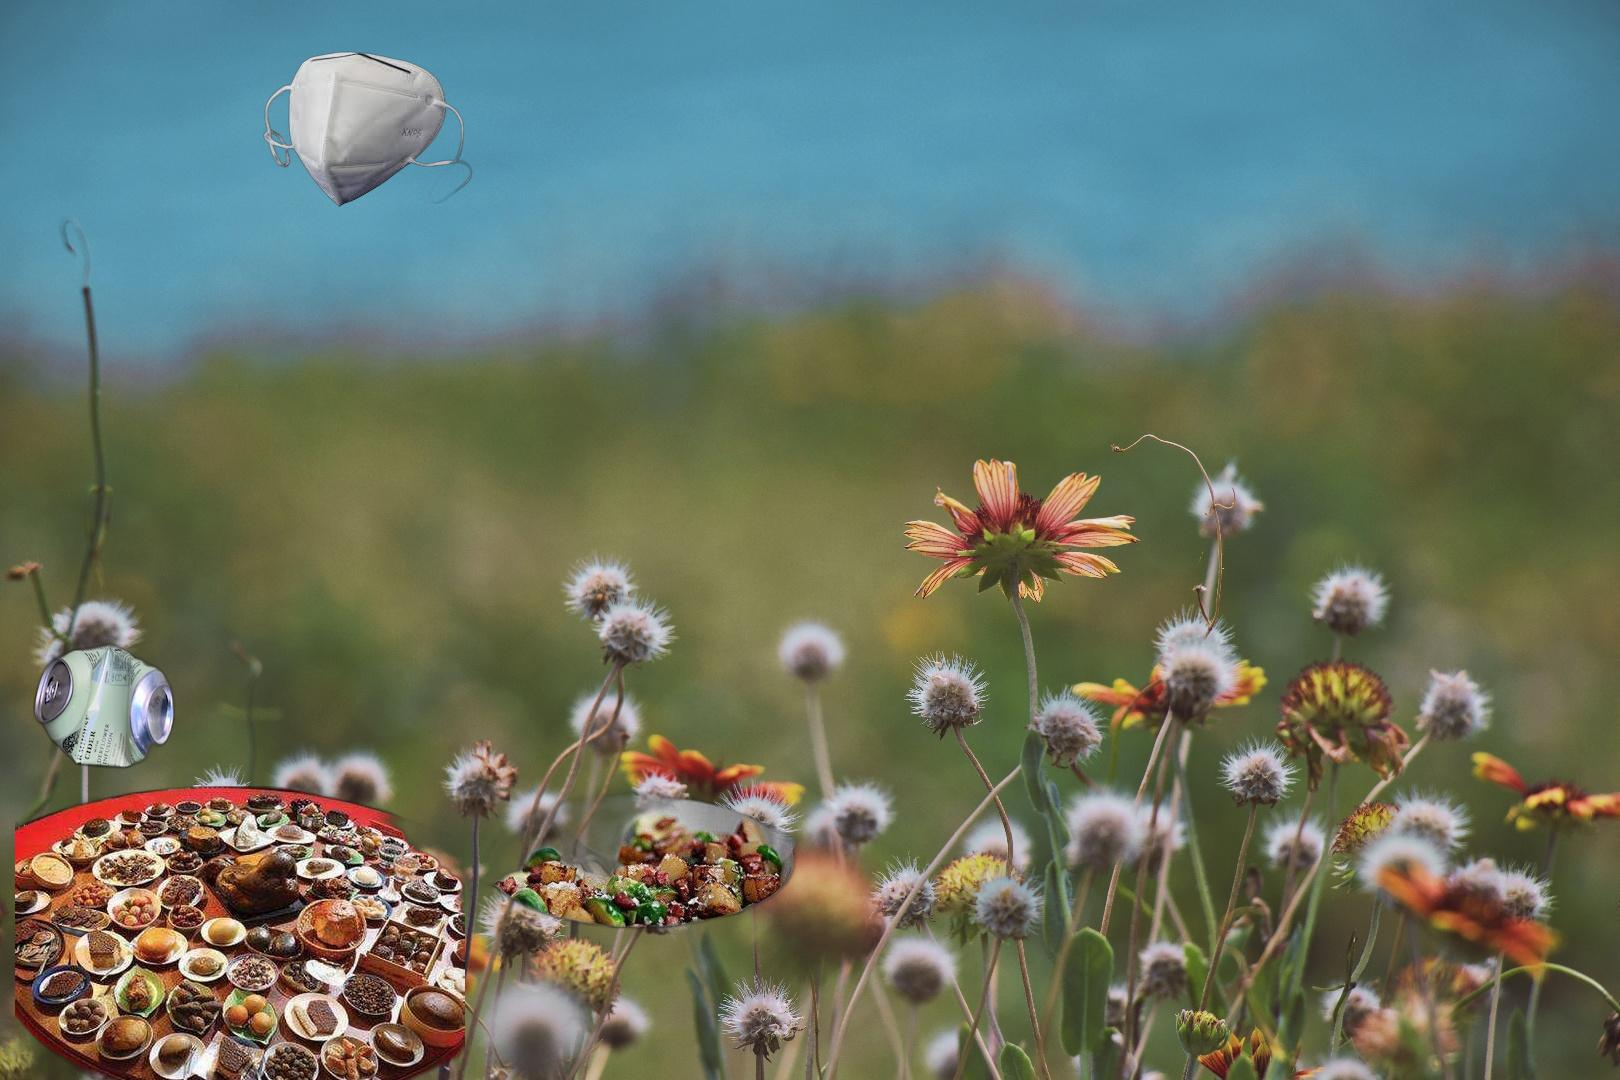biological: (14, 786, 465, 1080), (477, 727, 806, 969)
metal-cans: (29, 639, 178, 774)
paper-bag: (1518, 1069, 1620, 1080)
trash: (262, 49, 475, 210)
